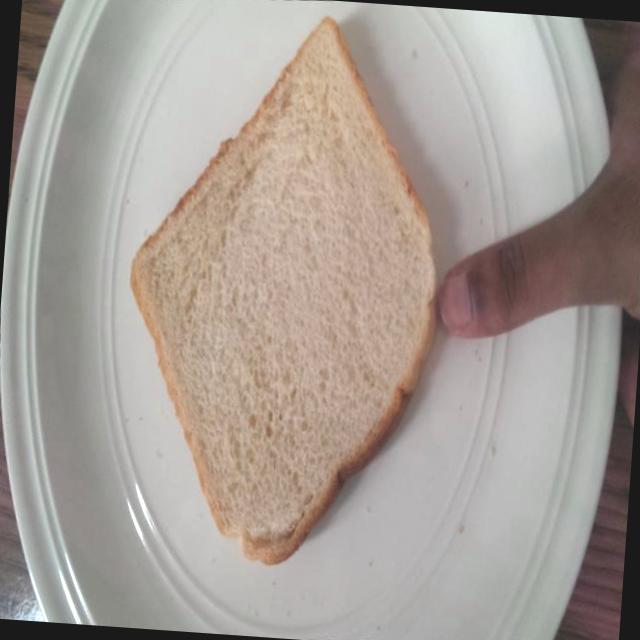Bread: (89, 0, 476, 593)
Finger: (428, 192, 566, 365)
